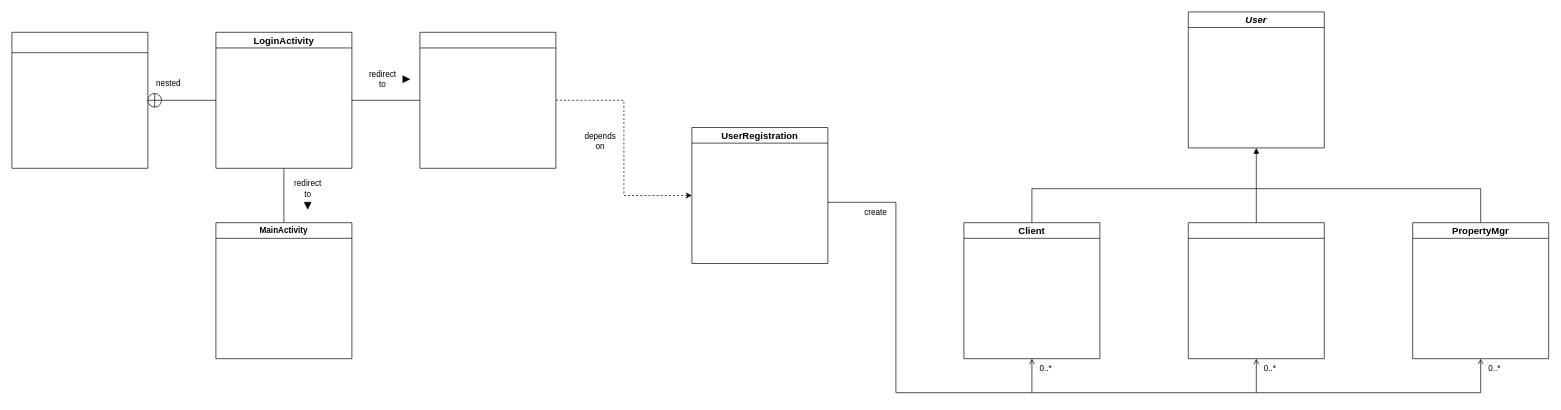
This 1561x410 diagram has some shape labels left out. The shapes that lost their labels are listed below. From the top down, each one's centre as x and y in pixels, then its label:
(x=79, y=100): <<static>> AuthManager
(x=487, y=100): RegisterActivity
(x=1256, y=290): Landlord
